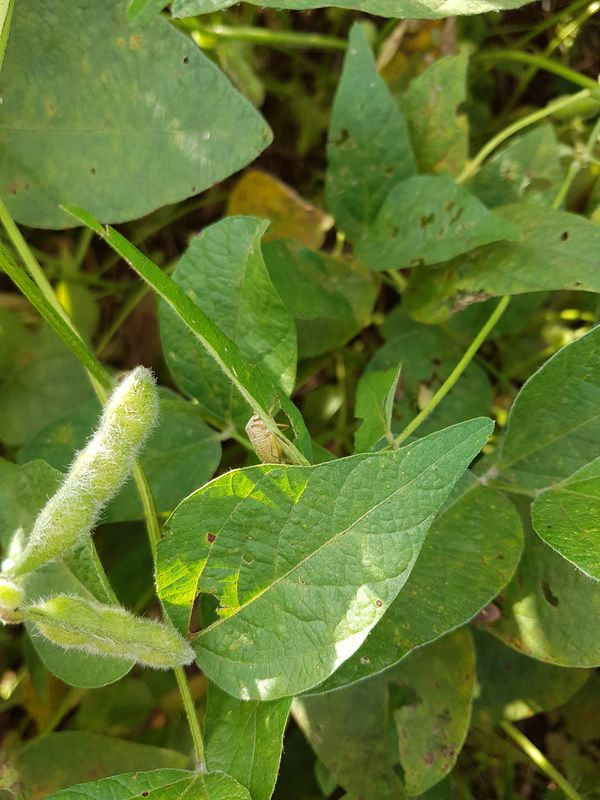Edessa_meditabunda: (230, 395, 306, 480)
Euschistus_heros_adulto: (467, 595, 512, 637)
